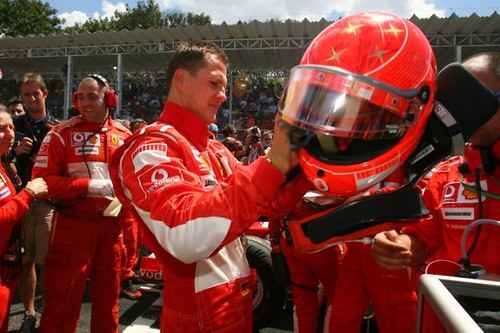helmet: (270, 3, 432, 194)
